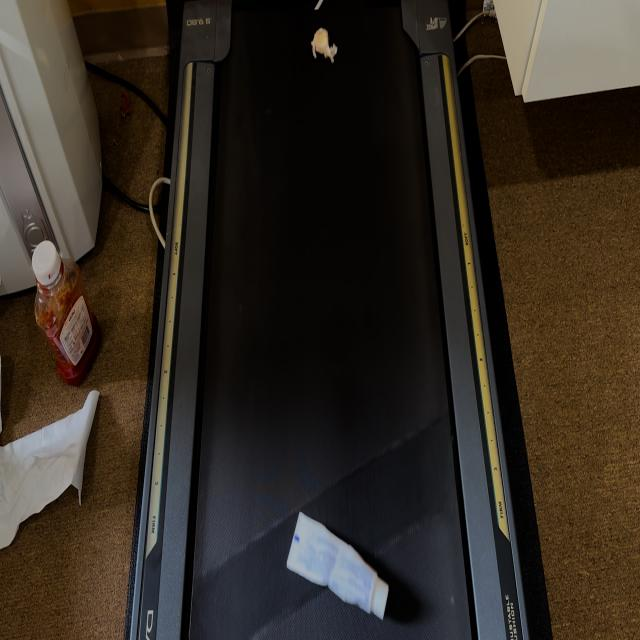Recycle: (311, 24, 338, 61)
Trash: (287, 507, 390, 621)
